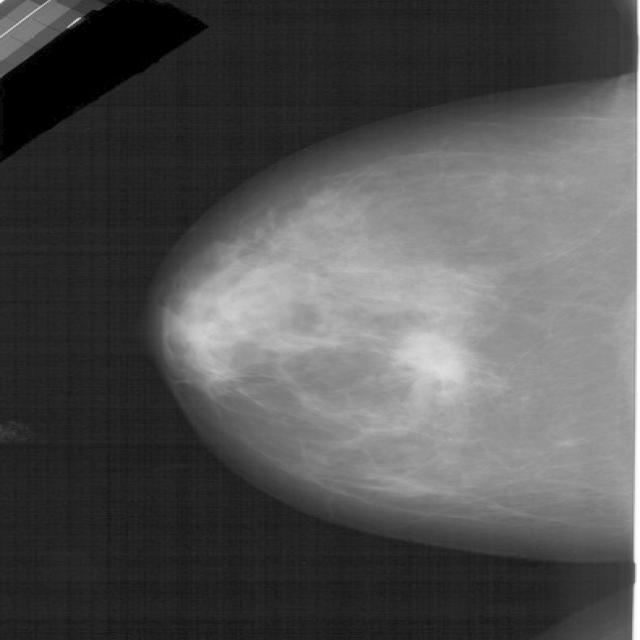tumour: (392, 330, 472, 383)
